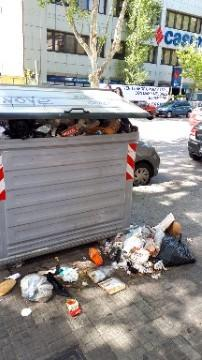Dechets: (0, 214, 194, 316), (0, 118, 136, 138), (157, 233, 194, 266), (20, 273, 52, 301), (88, 247, 100, 265)
Trash: (0, 86, 140, 262)
